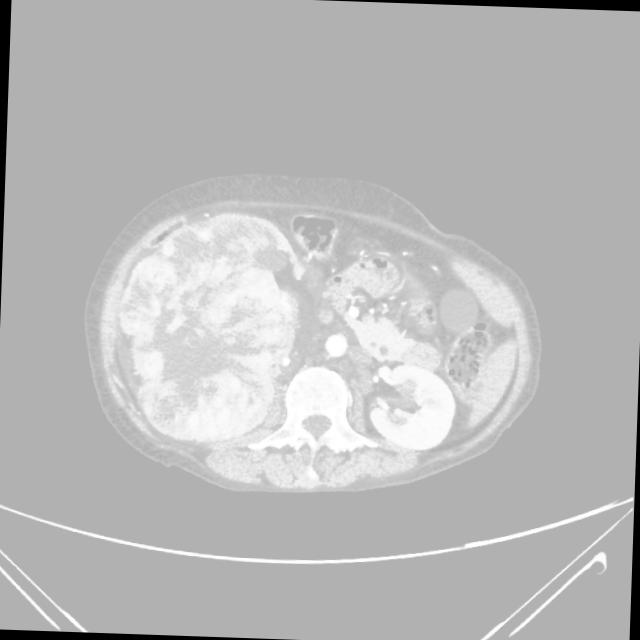TUMOR: (270, 194, 538, 455)
